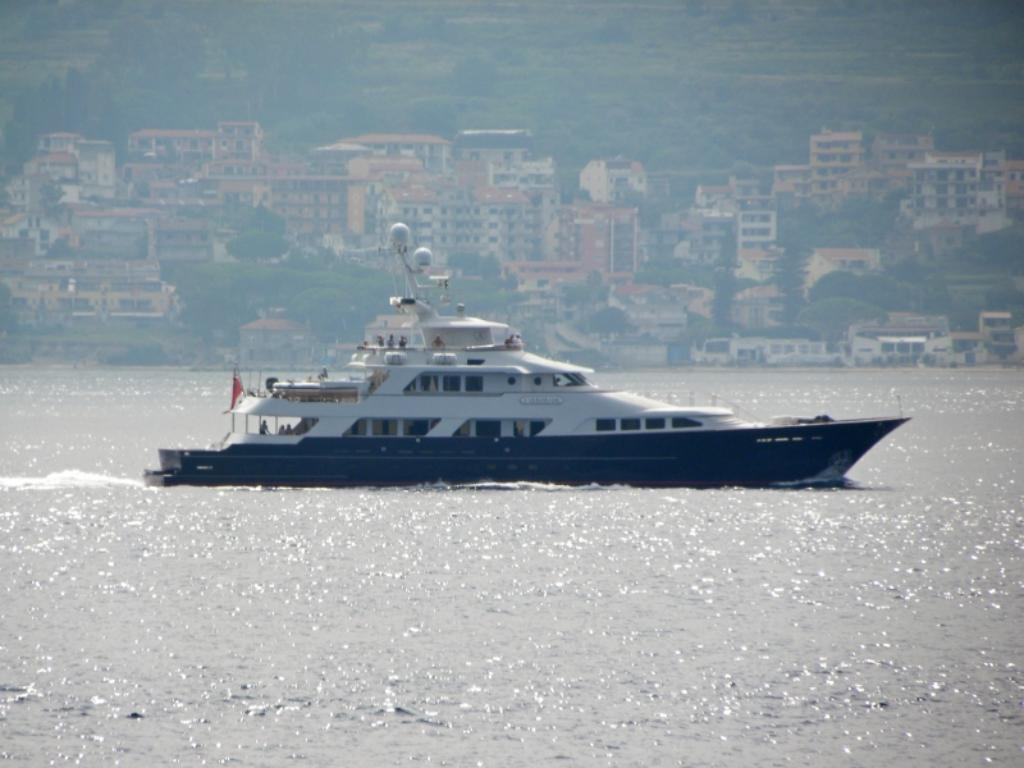PassengerShip: (140, 221, 918, 491)
